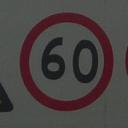speed_limit_60: (20, 11, 114, 110)
